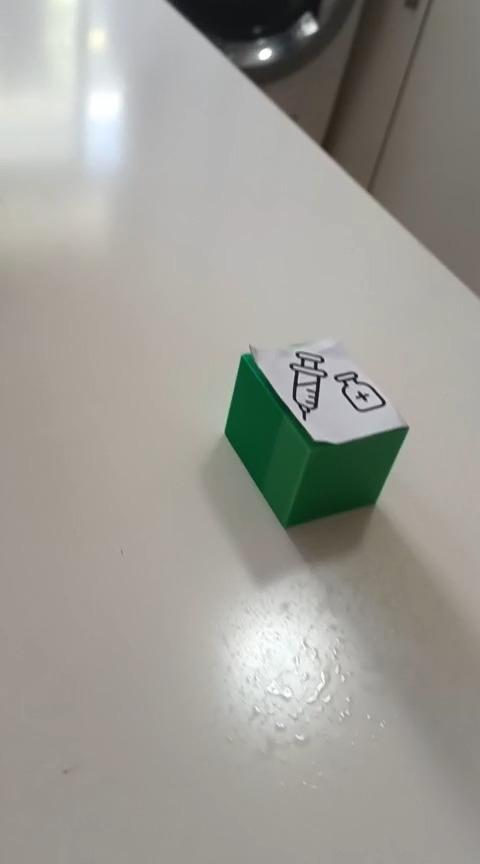antiseptic cream: (222, 335, 409, 530)
